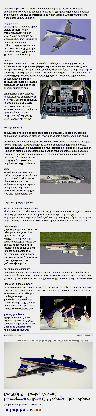B52: (5, 356, 87, 378), (41, 21, 87, 53), (46, 244, 90, 256), (42, 176, 86, 184)
